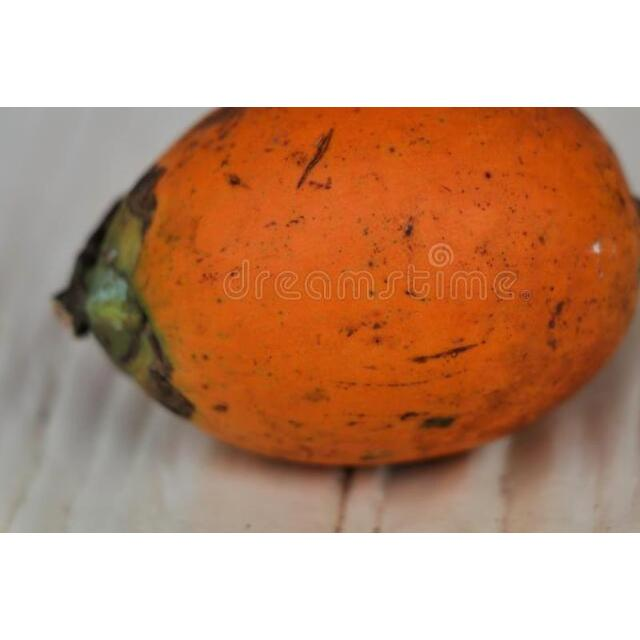good: (54, 107, 639, 472)
